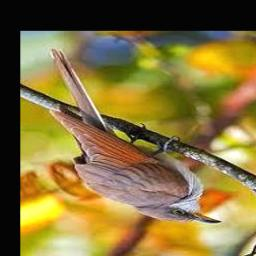Cuckoo: (49, 49, 221, 224)
